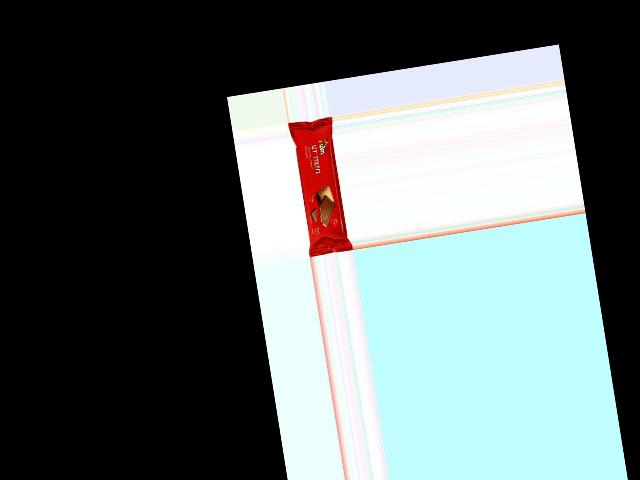chocolate: (287, 119, 352, 255)
